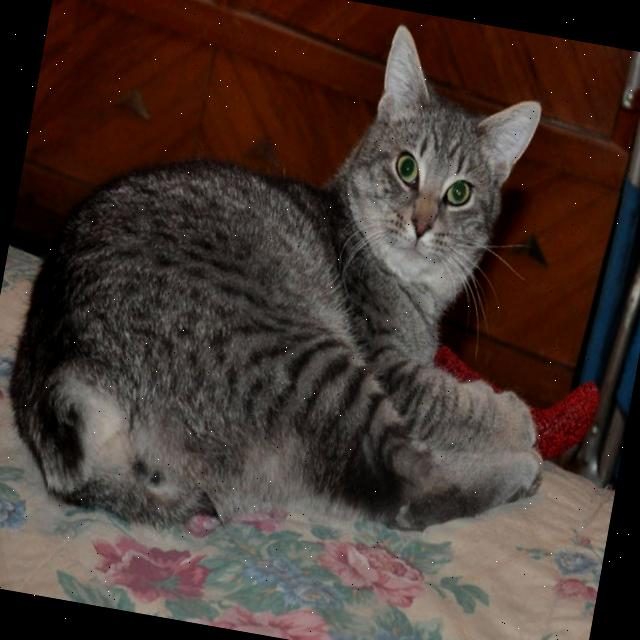manx_cat: (303, 15, 560, 318)
